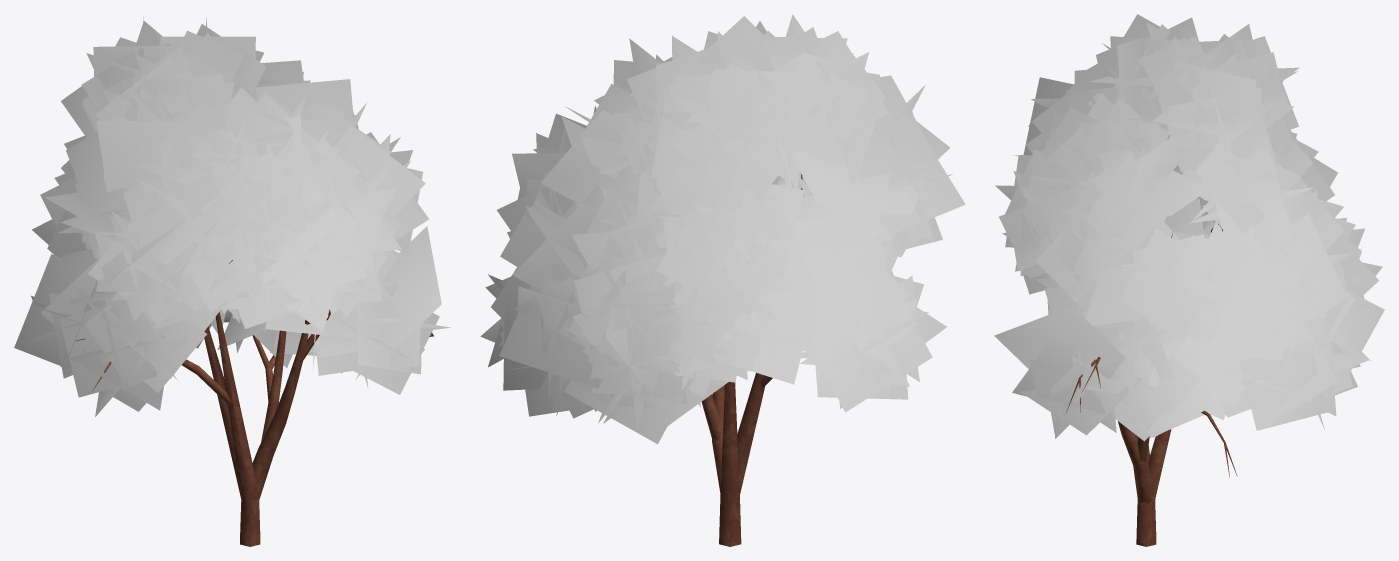
File: S_Tree_F_LOD_2.fbx
3 views of the same model, side by side, from view 1: azimuth 30°, elevation 25°; view 2: azimuth 150°, elevation 25°; view 3: azimuth 270°, elevation 25° (orthographic). The views are drawn at different scales.
Parts seen in each view (by area): view 1: S_Tree_F_LOD_2; view 2: S_Tree_F_LOD_2; view 3: S_Tree_F_LOD_2.
Boxes of the visible parts, left/top/right/bottom form: S_Tree_F_LOD_2: left=14, top=17, right=450, bottom=546; S_Tree_F_LOD_2: left=480, top=14, right=965, bottom=546; S_Tree_F_LOD_2: left=994, top=14, right=1384, bottom=546.
Size of the model in its own units: 391 by 507 by 365.
